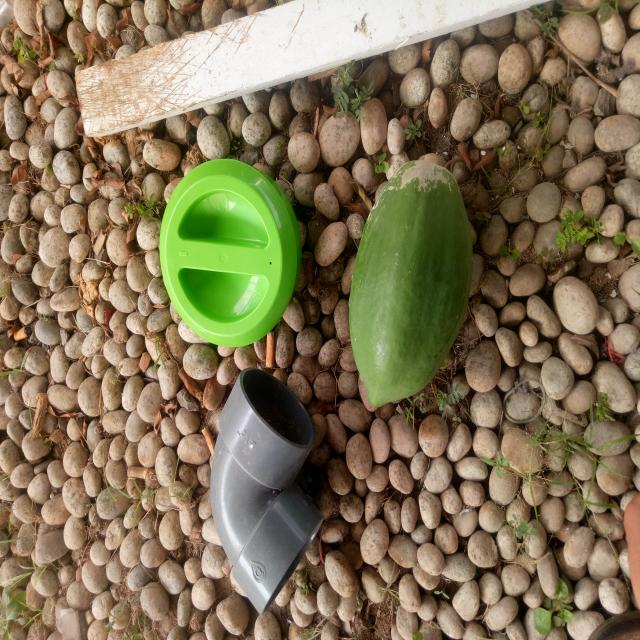Pepaya unrippen: (345, 159, 476, 412)
